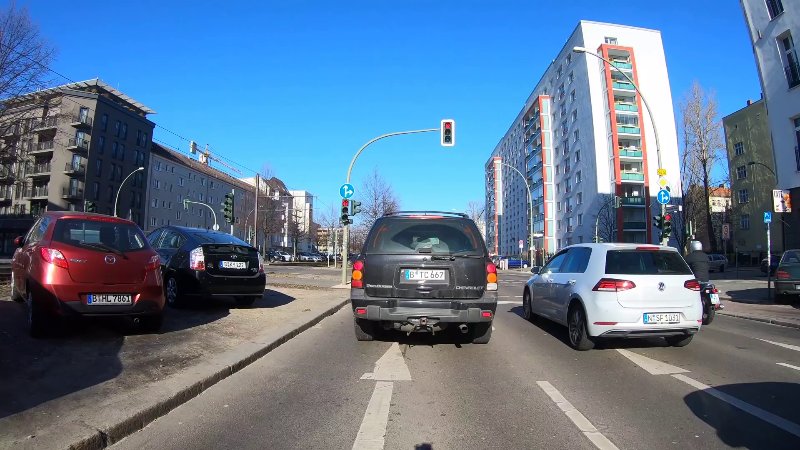Plate: (86, 293, 133, 304), (405, 269, 445, 280), (643, 313, 680, 323), (215, 259, 246, 268)
